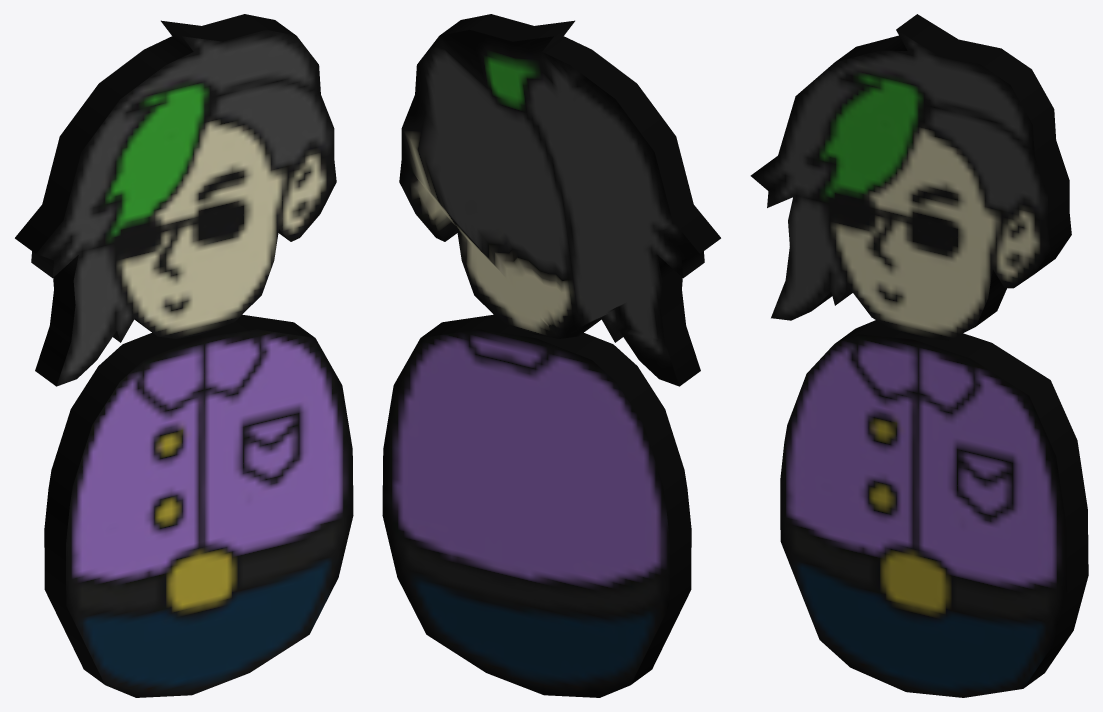
The model's file is Teppista_Donna.fbx.
3 renders of one model, left to right at view 1: azimuth 30°, elevation 25°; view 2: azimuth 150°, elevation 25°; view 3: azimuth 330°, elevation 25°, orthographic.
Visible parts, largest first — view 1: polySurface34; view 2: polySurface34; view 3: polySurface34.
Boxes of the visible parts, left/top/right/bottom form: polySurface34: left=15, top=14, right=353, bottom=697; polySurface34: left=382, top=14, right=720, bottom=697; polySurface34: left=750, top=14, right=1088, bottom=697.
Bounding box in the file's own units: 0.3305 × 0.658 × 0.0388.
